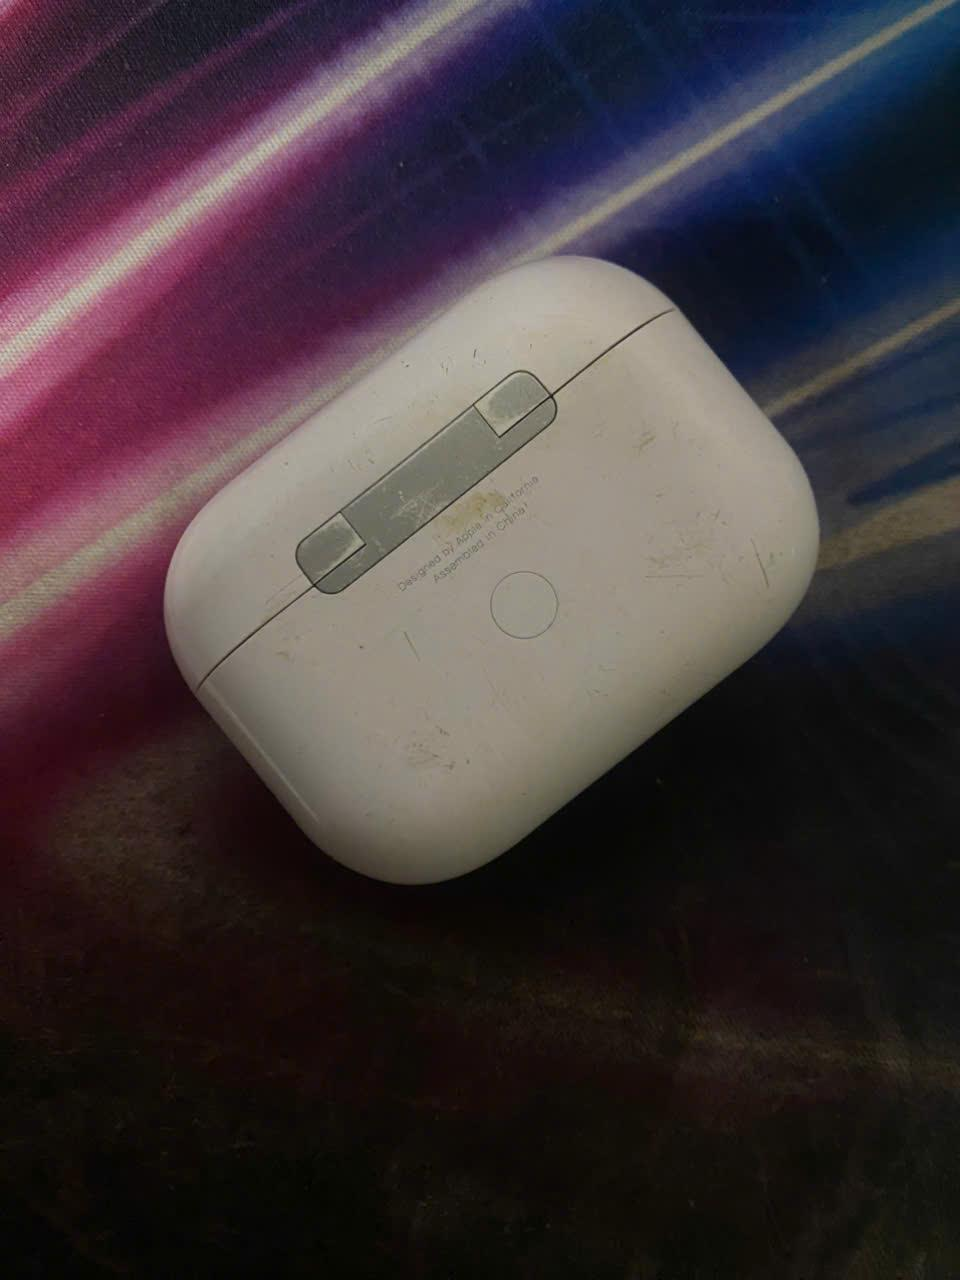airpod: (164, 250, 818, 904)
